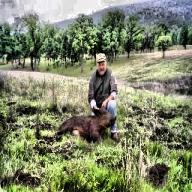boar: (54, 106, 116, 144)
